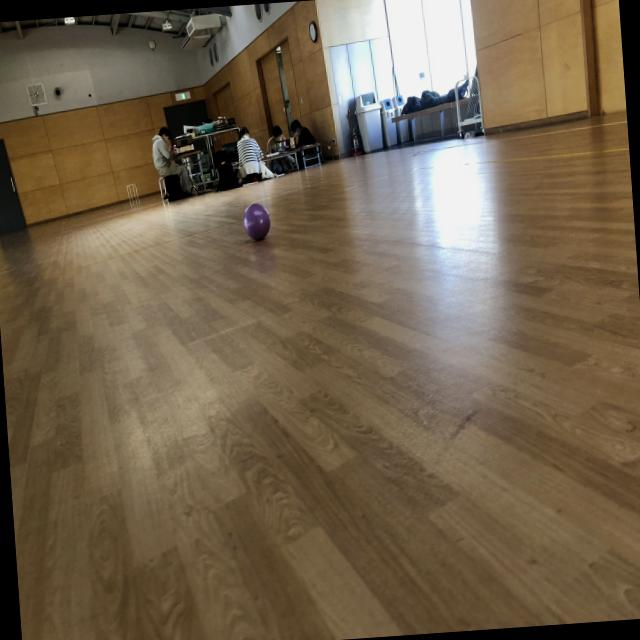purple_ball: (242, 200, 269, 243)
